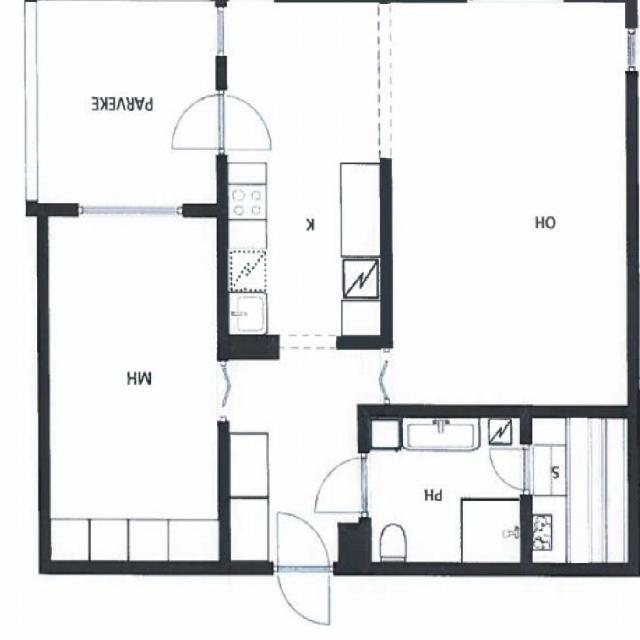door: (278, 566, 329, 630), (278, 511, 329, 574), (168, 94, 224, 148), (218, 94, 273, 148), (312, 458, 367, 512), (486, 448, 528, 490)
